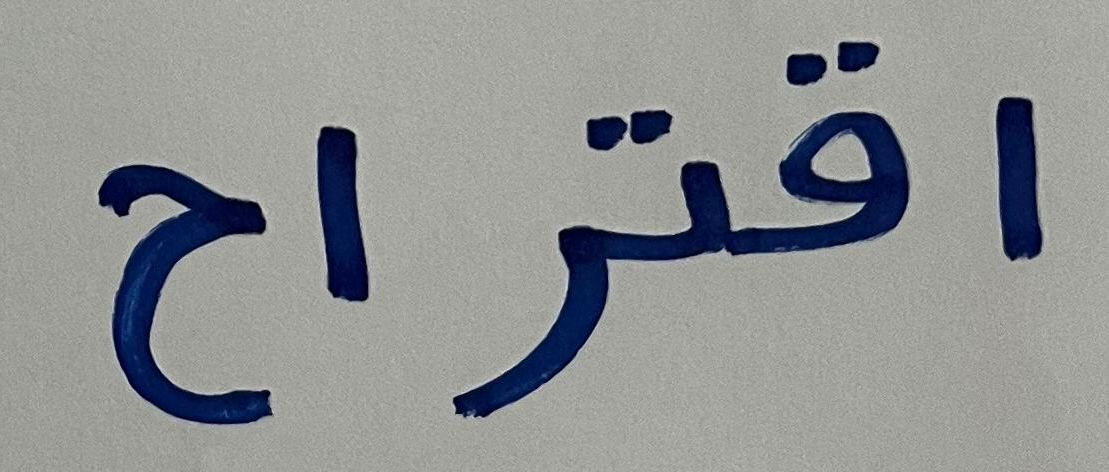alef: (934, 57, 1087, 336), (288, 82, 406, 354)
hah: (51, 109, 278, 441)
qaf: (746, 13, 926, 291)
reh: (422, 279, 616, 423)
teh: (586, 66, 738, 275)
